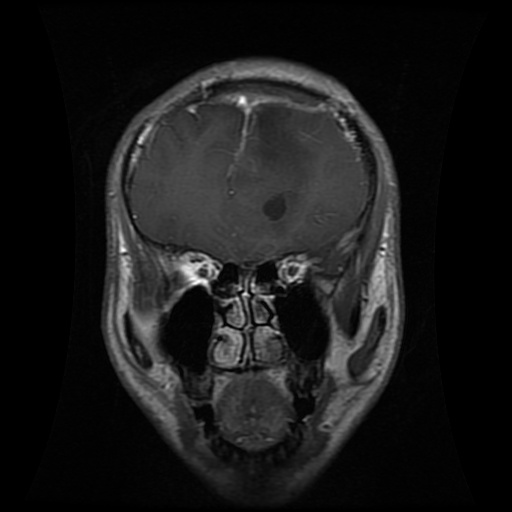glioma: (245, 104, 302, 162)
